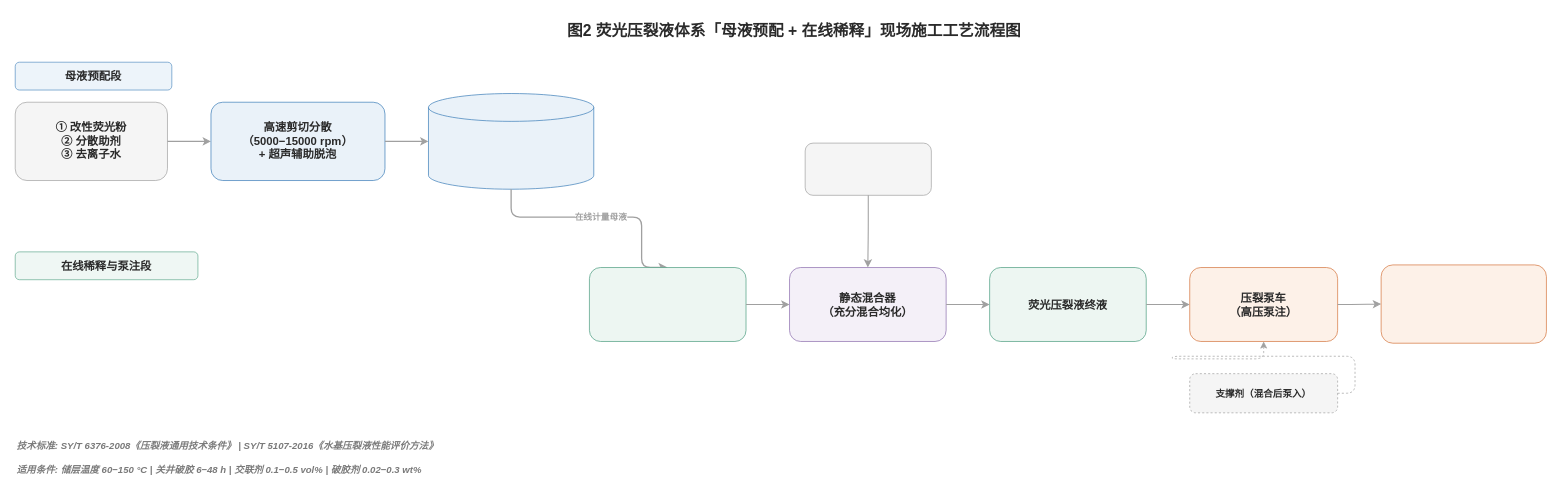
Image size: 1562x496. Some labels were removed from this diagram. Here are the shapes that lost their labels. From the top down, the centre of each, then its label:
At (511,141): "荧光悬浮母液 （20−80 g/L） （优选 40 g/L）".
At (867,168): "HPG 基液主流 （0.3−1.0 wt%） （优选 0.5 wt%）".
At (667,304): "在线计量泵 （母液添加量 0.3−1.0 vol%）".
At (1463,303): "井口 → 目标压裂层段".
